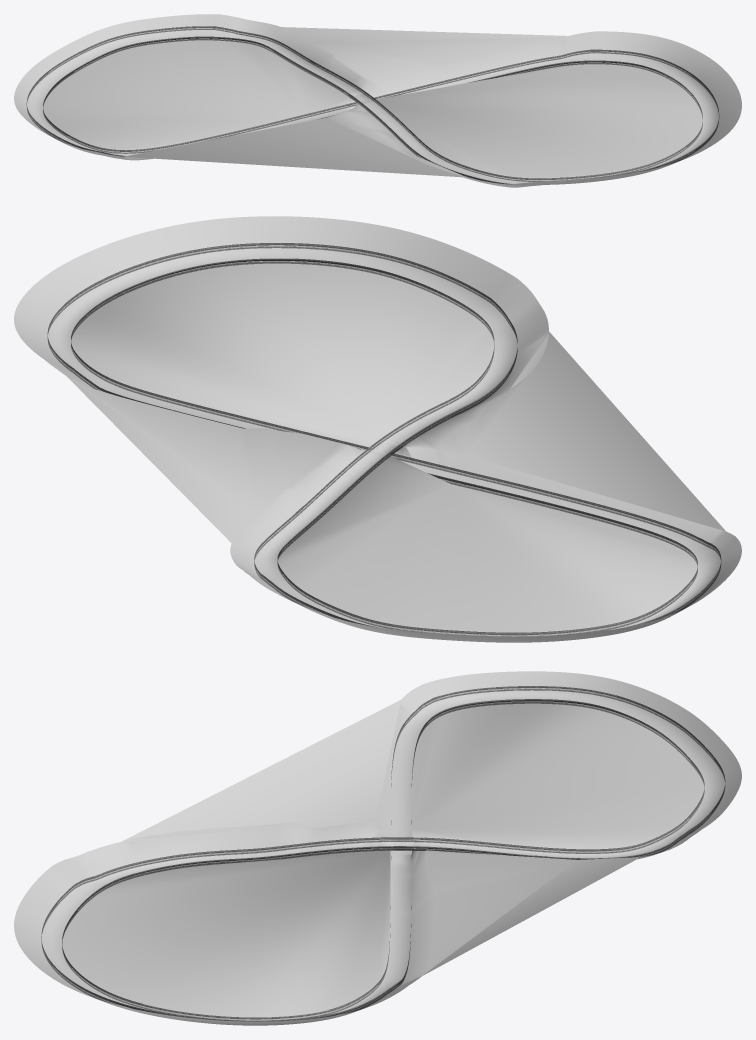
The model's file is FigureEightRacetrack.fbx.
3 renders of one model, top to bottom at view 1: azimuth 30°, elevation 25°; view 2: azimuth 150°, elevation 25°; view 3: azimuth 270°, elevation 25°, orthographic. The views are drawn at different scales.
Parts seen in each view (by area): view 1: Plane; view 2: Plane; view 3: Plane.
Part boxes in pixels (x1,y1,x2,y2): Plane: [14, 14, 741, 187]; Plane: [14, 216, 741, 642]; Plane: [14, 671, 741, 1025].
Bounding box in the file's own units: 24427 × 691 × 21138.
